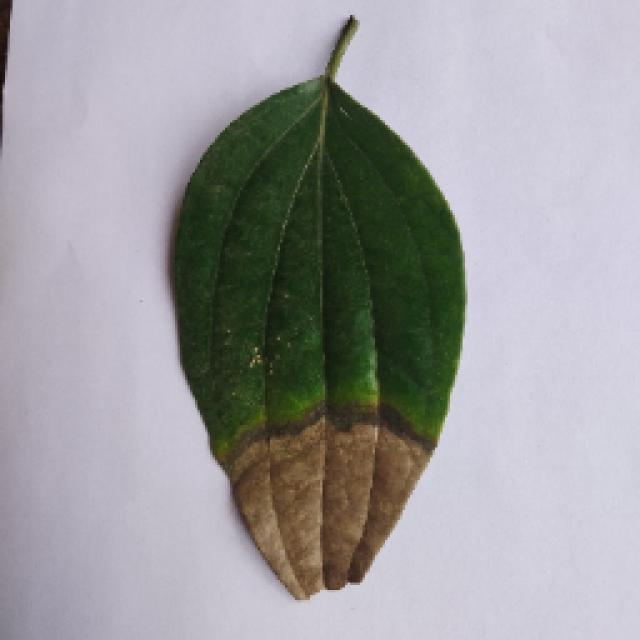footrot: (168, 25, 470, 603)
